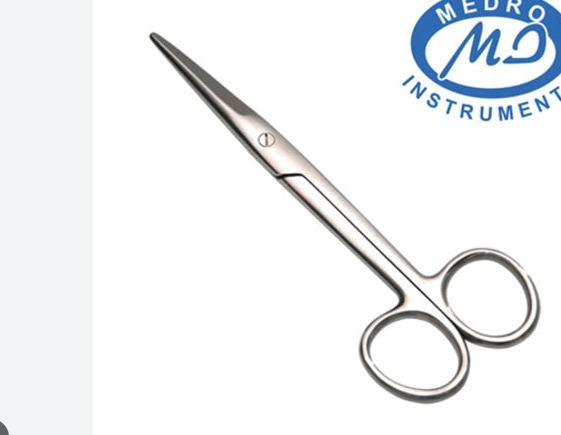Straight Mayo: (143, 27, 539, 406)
